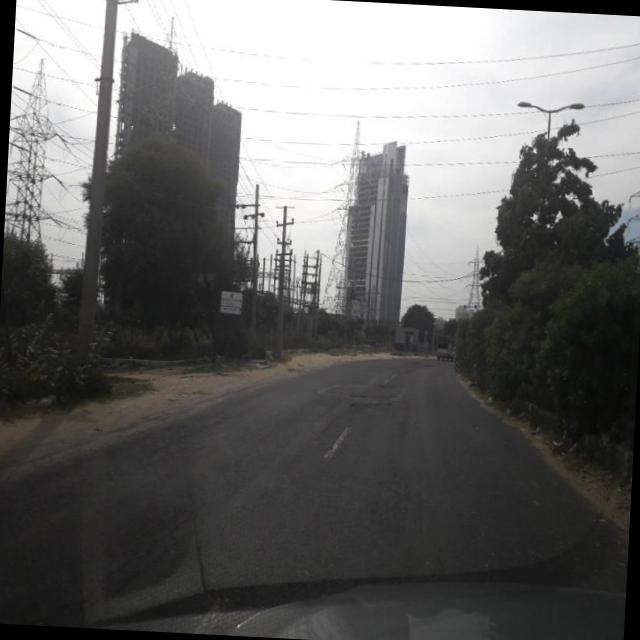crack: (65, 498, 192, 632), (363, 368, 440, 572)
